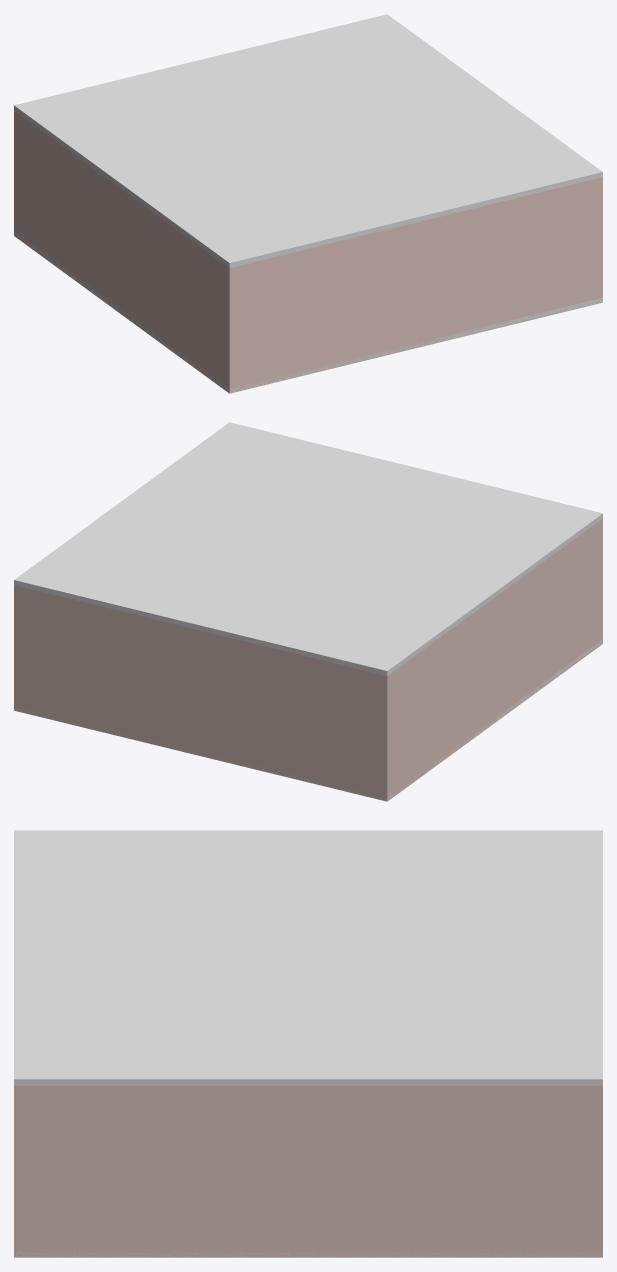
File: wall.fbx
The picture shows the model from 3 angles, top to bottom: view 1: azimuth 30°, elevation 25°; view 2: azimuth 150°, elevation 25°; view 3: azimuth 270°, elevation 25°; orthographic projection. The views are drawn at different scales.
Parts seen in each view (by area): view 1: Room; view 2: Room; view 3: Room.
Boxes of the visible parts, x1=… form: Room: x1=14, y1=14, x2=602, y2=393; Room: x1=14, y1=422, x2=602, y2=801; Room: x1=14, y1=830, x2=602, y2=1257.
Size of the model in its own units: 1400 by 468 by 1400.
